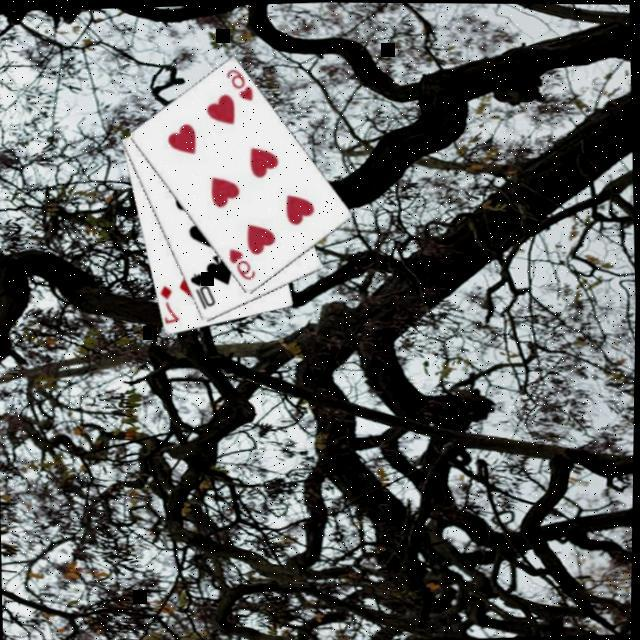10S: (185, 268, 217, 312)
6H: (224, 243, 257, 282), (220, 64, 253, 103)
7D: (154, 280, 182, 325)
